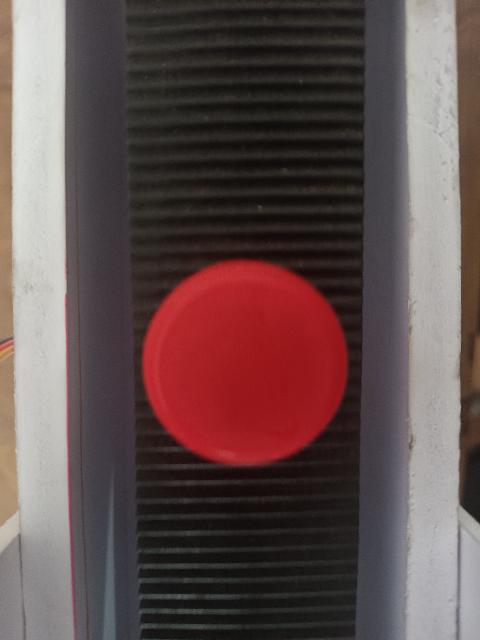bottlecap: (138, 248, 358, 472)
